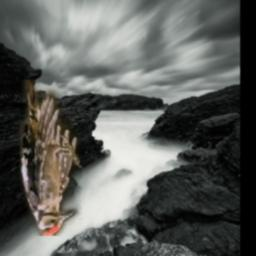Woodpecker: (21, 81, 83, 237)
